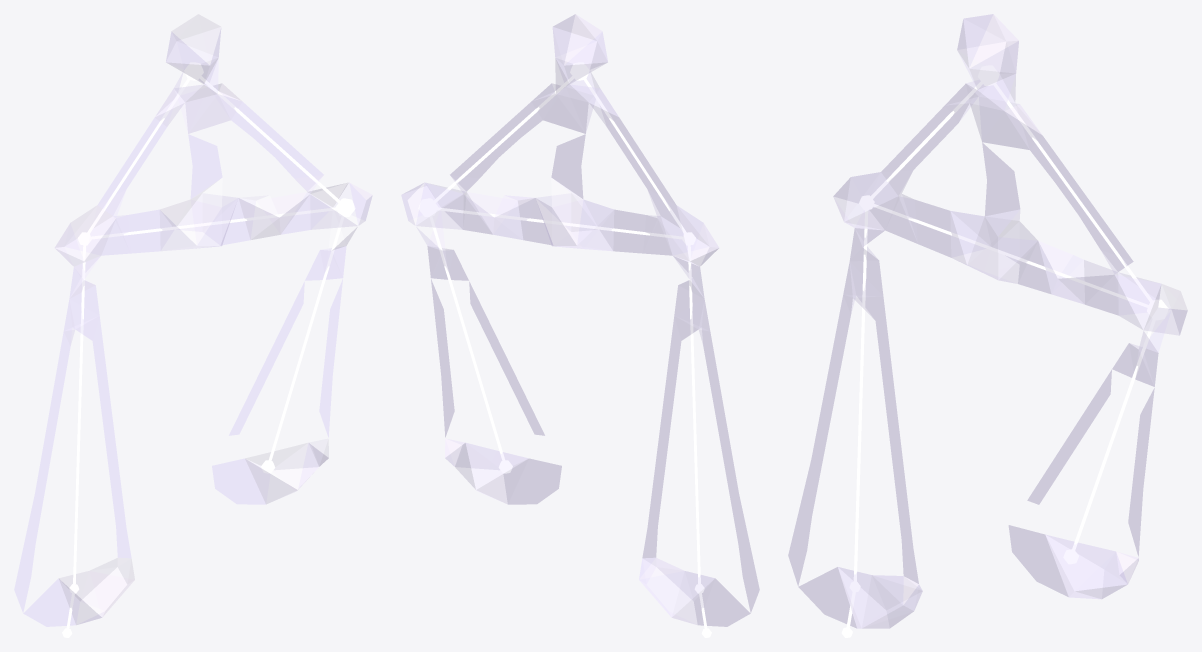
The model's file is 07_Libra.glb.
3 renders of one model, left to right at view 1: azimuth 30°, elevation 25°; view 2: azimuth 150°, elevation 25°; view 3: azimuth 330°, elevation 25°, orthographic. The views are drawn at different scales.
Visible parts, largest first — view 1: Libra; view 2: Libra; view 3: Libra.
Part boxes in pixels (x1,y1,x2,y2): Libra: (14, 14, 372, 637); Libra: (401, 14, 759, 637); Libra: (788, 14, 1187, 637).
Bounding box in the file's own units: 1.01 × 1.6 × 0.163.
